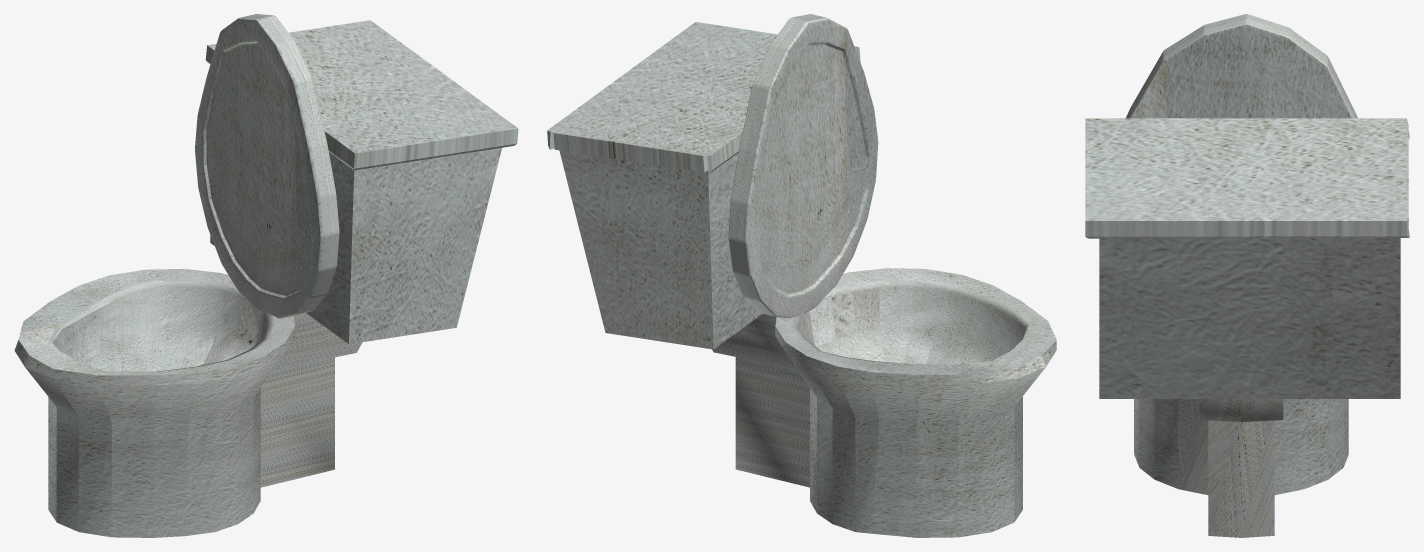
The model's file is toilet_final.fbx.
3 renders of one model, left to right at view 1: azimuth 30°, elevation 25°; view 2: azimuth 150°, elevation 25°; view 3: azimuth 270°, elevation 25°, orthographic. The views are drawn at different scales.
Parts seen in each view (by area): view 1: Toilet_Seat, pCube1, Toilet_Cover; view 2: Toilet_Seat, pCube1, Toilet_Cover; view 3: pCube1, Toilet_Seat, Toilet_Cover.
Boxes of the visible parts, <box> form: Toilet_Seat: <box>14,268,362,537</box>; pCube1: <box>205,20,518,344</box>; Toilet_Cover: <box>195,14,339,318</box>; Toilet_Seat: <box>712,268,1056,537</box>; pCube1: <box>547,22,860,349</box>; Toilet_Cover: <box>728,14,878,318</box>; pCube1: <box>1085,118,1409,398</box>; Toilet_Seat: <box>1134,399,1348,537</box>; Toilet_Cover: <box>1126,14,1357,118</box>.
Size of the model in its own units: 179 by 183 by 110.
1 material, 1 textured.
